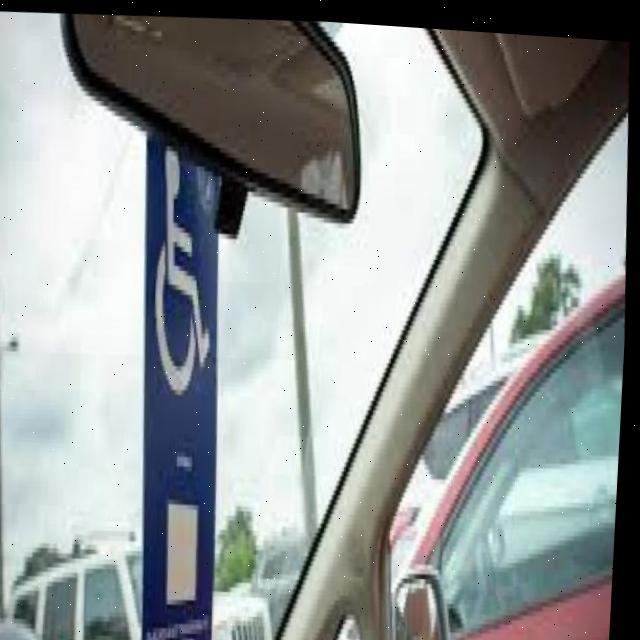symbol_of_access: (149, 137, 228, 402)
